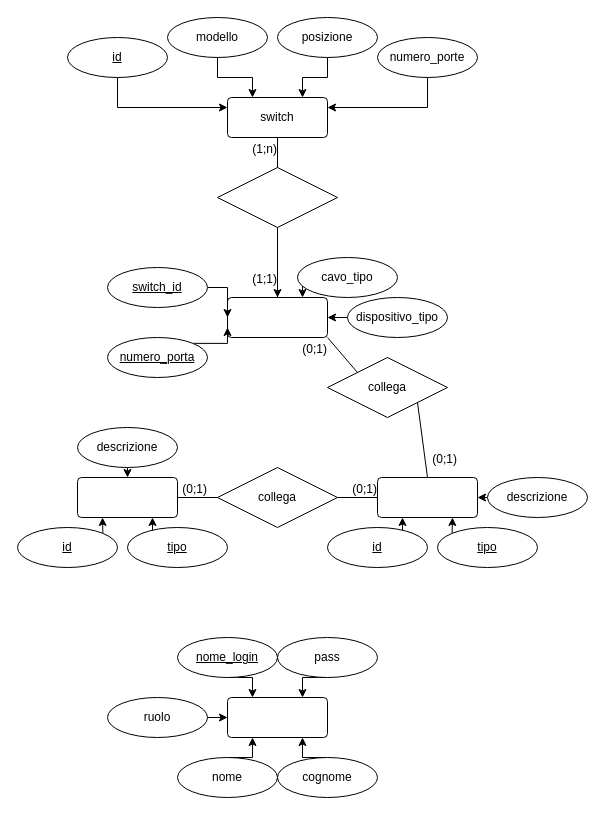
The diagram is 605 pixels wide and 815 high, and some of its shapes have lost their labels. Each missing label, with the centre of its shape:
cavo: [427,497]
dispositivo: [127,497]
ha: [277,197]
porta: [277,317]
utente: [277,717]
